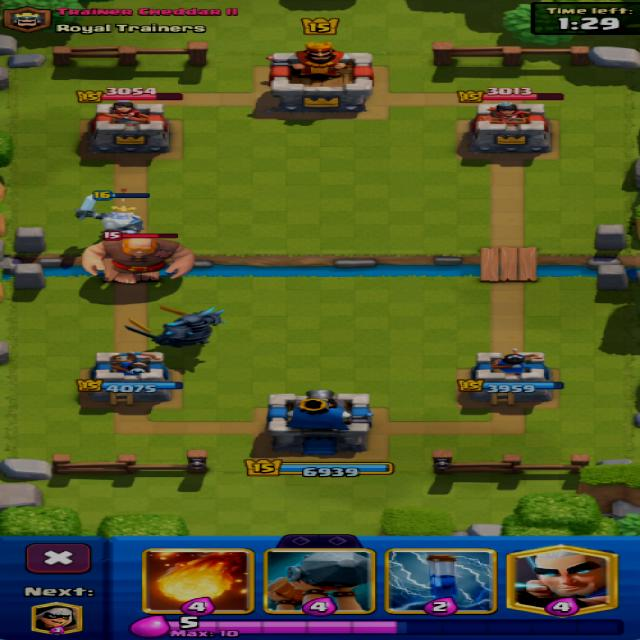Enemy-Giant: (83, 239, 193, 283)
Enemy-KingTower: (269, 43, 372, 114)
Enemy-PrincessTower: (88, 100, 169, 152), (470, 102, 549, 154)
